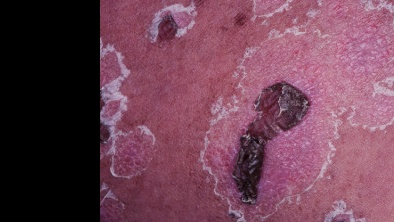SJS-TEN: (161, 0, 394, 222), (98, 40, 158, 222), (147, 0, 199, 46)
